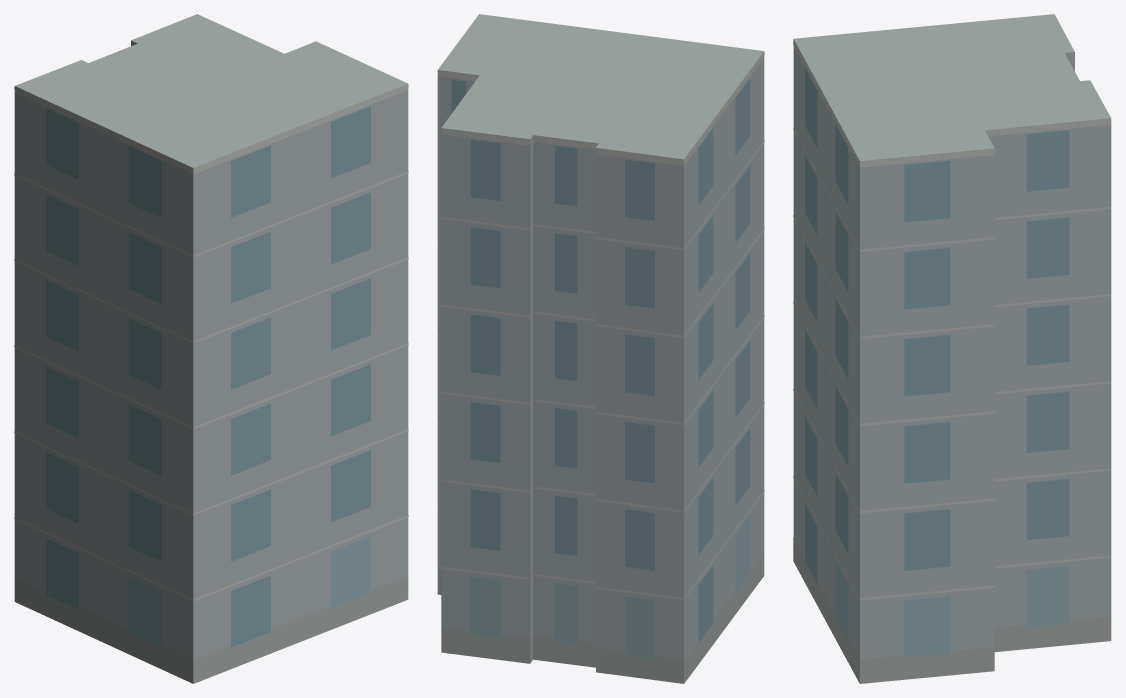
Rendered from survey-upis-32809435.glb.
The picture shows the model from 3 angles, left to right: view 1: azimuth 30°, elevation 25°; view 2: azimuth 150°, elevation 25°; view 3: azimuth 270°, elevation 25°; orthographic projection.
Visible parts, largest first — view 1: survey-upis-32809435.tmp; view 2: survey-upis-32809435.tmp; view 3: survey-upis-32809435.tmp.
Boxes of the visible parts, x1,y1,x2,y2 form: survey-upis-32809435.tmp: [14, 14, 408, 683]; survey-upis-32809435.tmp: [437, 14, 764, 683]; survey-upis-32809435.tmp: [793, 14, 1111, 683].
Size of the model in its own units: 11.86 by 19.6 by 10.83.
